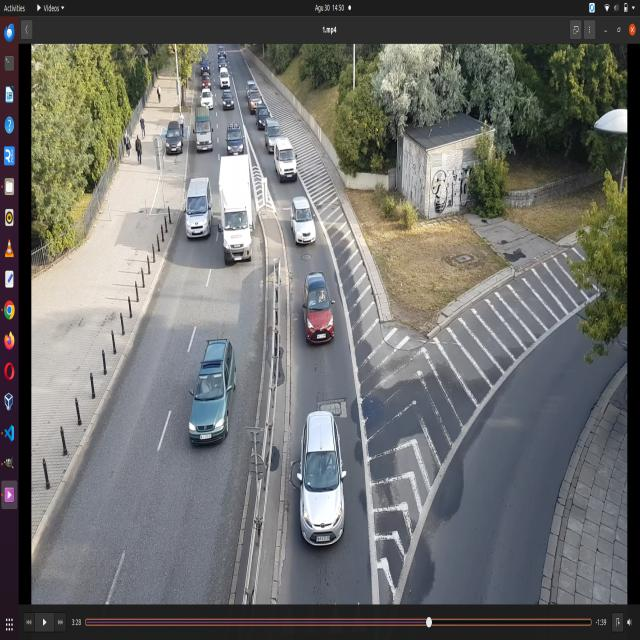person_with_seatbelt: (320, 451, 338, 485), (200, 375, 214, 399), (316, 287, 326, 313)
